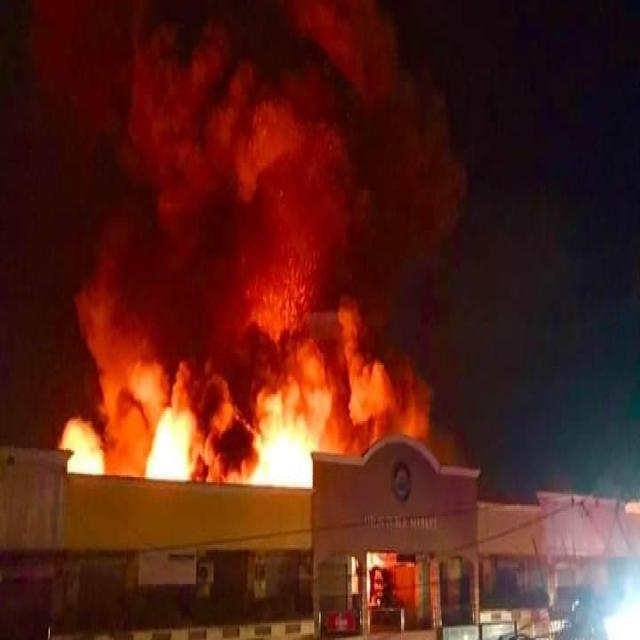Fire: (60, 410, 265, 498)
Smoke: (19, 7, 438, 396), (254, 397, 326, 503)
